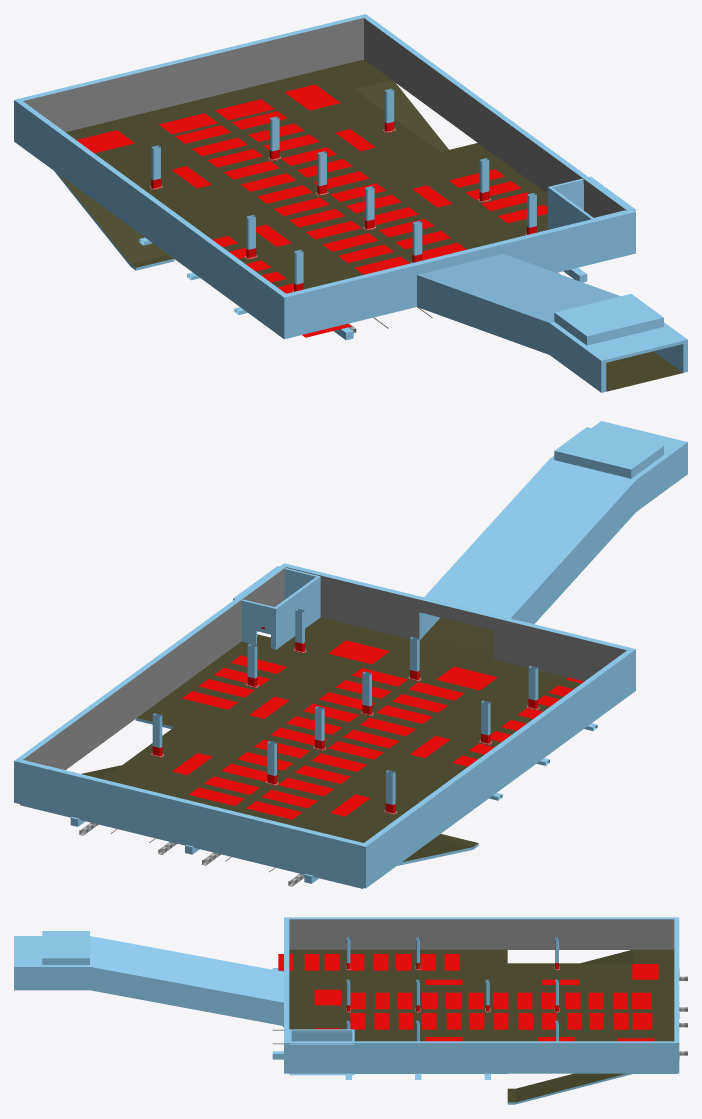
Rendered from 1st floor.FBX.
3 renders of one model, top to bottom at view 1: azimuth 30°, elevation 25°; view 2: azimuth 150°, elevation 25°; view 3: azimuth 270°, elevation 25°, orthographic. The views are drawn at different scales.
Parts seen in each view (by area): view 1: 1st floor; view 2: 1st floor; view 3: 1st floor.
Part boxes in pixels (x1,y1,x2,y2): 1st floor: [14, 14, 687, 392]; 1st floor: [14, 421, 687, 888]; 1st floor: [14, 917, 687, 1104].
Bounding box in the file's own units: 0.6142 × 1.36 × 0.2189.
